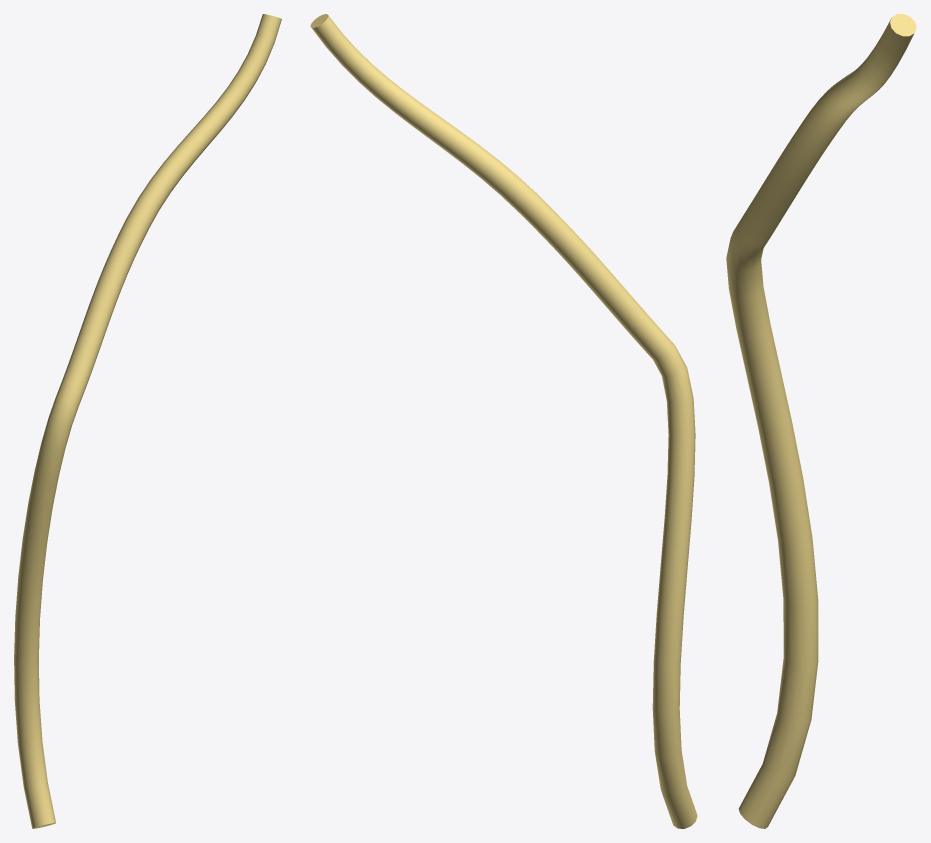
3 renders of one model, left to right at view 1: azimuth 30°, elevation 25°; view 2: azimuth 150°, elevation 25°; view 3: azimuth 270°, elevation 25°, orthographic. The views are drawn at different scales.
Visible parts, largest first — view 1: ZA_e31b84b353d1ab4e; view 2: ZA_e31b84b353d1ab4e; view 3: ZA_e31b84b353d1ab4e.
Boxes of the visible parts, x1=… form: ZA_e31b84b353d1ab4e: x1=14, y1=14, x2=281, y2=828; ZA_e31b84b353d1ab4e: x1=310, y1=14, x2=697, y2=828; ZA_e31b84b353d1ab4e: x1=726, y1=14, x2=916, y2=828.
Bounding box in the file's own units: 0.014 × 0.0316 × 0.00545.
